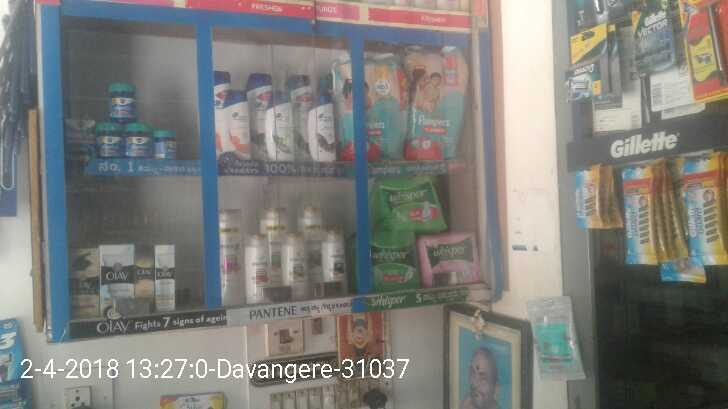vicks: (108, 81, 138, 118), (126, 123, 155, 158), (97, 123, 126, 158), (157, 132, 178, 160)
